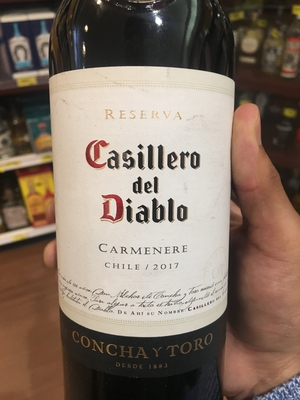casillero del diablo carmenere: (38, 22, 249, 400)
